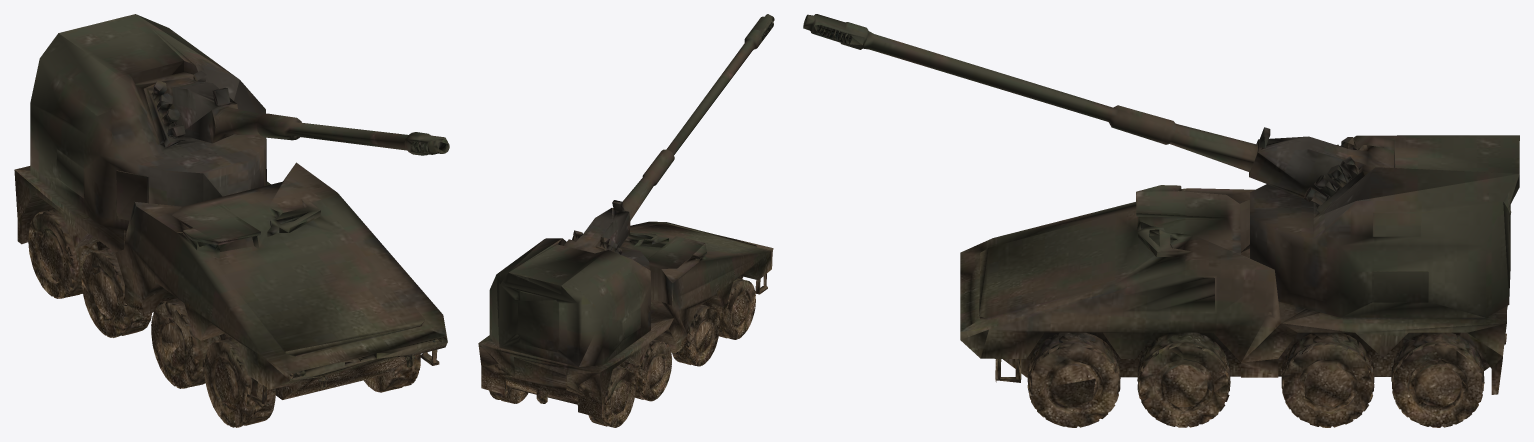
Rendered from spg_rch155.glb.
The picture shows the model from 3 angles, left to right: view 1: azimuth 30°, elevation 25°; view 2: azimuth 150°, elevation 25°; view 3: azimuth 270°, elevation 25°; orthographic projection. The views are drawn at different scales.
Parts seen in each view (by area): view 1: RCH_155mm_KMW; view 2: RCH_155mm_KMW; view 3: RCH_155mm_KMW.
Boxes of the visible parts, x1,y1,x2,y2 form: RCH_155mm_KMW: [14, 14, 449, 427]; RCH_155mm_KMW: [478, 14, 774, 427]; RCH_155mm_KMW: [803, 14, 1519, 427].
Size of the model in its own units: 2.84 by 5.42 by 9.5.
Materials: 1 (1 with a texture image).
